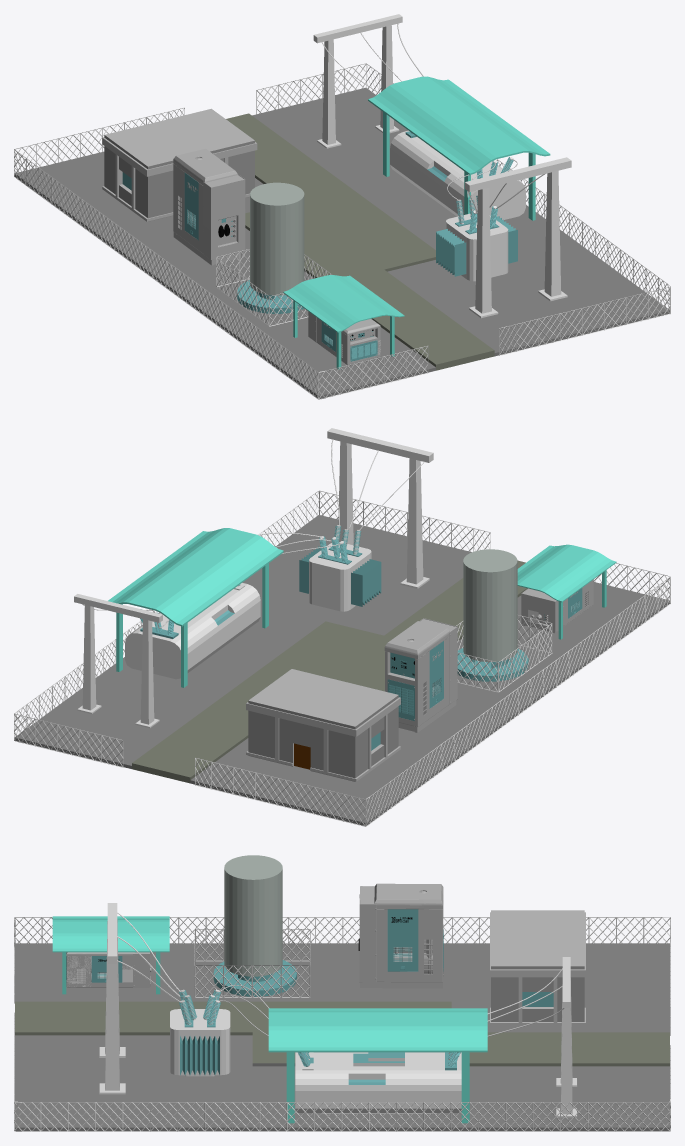
Rendered from ElectricStation1.fbx.
3 views of the same model, one above another, from view 1: azimuth 30°, elevation 25°; view 2: azimuth 150°, elevation 25°; view 3: azimuth 270°, elevation 25° (orthographic). The views are drawn at different scales.
Visible parts, largest first — view 1: ElectricGround, ElectricGround.001, ElectricFence, ElectricHut, 平面.001, 柱体, ElectricTower, ElectricTransformer, 平面, ElectricConverter.001, ElectricTower.001, Cube.017 (+6 smaller); view 2: ElectricGround, ElectricFence, ElectricGround.001, ElectricHut, 平面.001, 柱体, ElectricTransformer, ElectricTower, ElectricConverter.001, 平面, ElectricTower.001, Cube.020 (+9 smaller); view 3: ElectricGround, ElectricGround.001, ElectricFence, 平面.001, ElectricHut, ElectricTransformer, 柱体, 平面, ElectricConverter.001, Cube.020, ElectricTower, Cube.015 (+12 smaller).
Boxes of the visible parts, bbox=[...] form: ElectricGround: bbox=[14, 87, 669, 398]; ElectricGround.001: bbox=[226, 113, 494, 370]; ElectricFence: bbox=[14, 63, 670, 399]; ElectricHut: bbox=[102, 108, 257, 221]; 平面.001: bbox=[368, 76, 550, 220]; 柱体: bbox=[250, 182, 304, 295]; ElectricTower: bbox=[465, 157, 571, 318]; ElectricTransformer: bbox=[390, 130, 525, 219]; 平面: bbox=[283, 275, 404, 369]; ElectricConverter.001: bbox=[436, 213, 517, 281]; ElectricTower.001: bbox=[313, 14, 402, 148]; Cube.017: bbox=[203, 174, 245, 259]; ElectricGround: bbox=[14, 515, 669, 825]; ElectricFence: bbox=[14, 490, 670, 826]; ElectricGround.001: bbox=[132, 560, 527, 783]; ElectricHut: bbox=[246, 669, 400, 781]; 平面.001: bbox=[108, 528, 283, 687]; 柱体: bbox=[463, 549, 517, 661]; ElectricTransformer: bbox=[125, 583, 260, 679]; ElectricTower: bbox=[327, 428, 433, 588]; ElectricConverter.001: bbox=[299, 542, 381, 611]; 平面: bbox=[517, 544, 616, 639]; ElectricTower.001: bbox=[74, 594, 162, 728]; Cube.020: bbox=[385, 637, 449, 726]; ElectricGround: bbox=[15, 943, 669, 1131]; ElectricGround.001: bbox=[15, 1001, 669, 1066]; ElectricFence: bbox=[14, 917, 670, 1131]; 平面.001: bbox=[268, 1008, 487, 1123]; ElectricHut: bbox=[490, 910, 585, 1025]; ElectricTransformer: bbox=[295, 1052, 461, 1113]; 柱体: bbox=[224, 855, 282, 976]; 平面: bbox=[52, 916, 169, 994]; ElectricConverter.001: bbox=[170, 1008, 230, 1076]; Cube.020: bbox=[377, 904, 443, 982]; ElectricTower: bbox=[99, 903, 125, 1094]; Cube.015: bbox=[387, 909, 418, 971].
Size of the model in its own units: 1057 by 388 by 1585.
